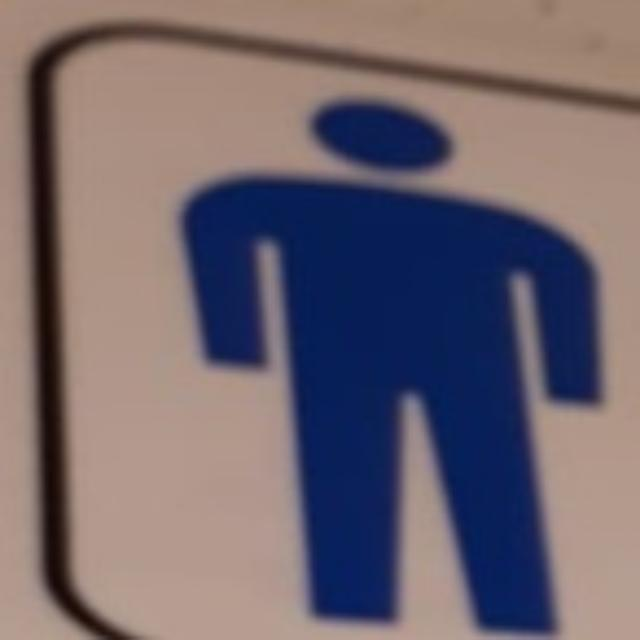wc nam: (53, 35, 636, 636)
